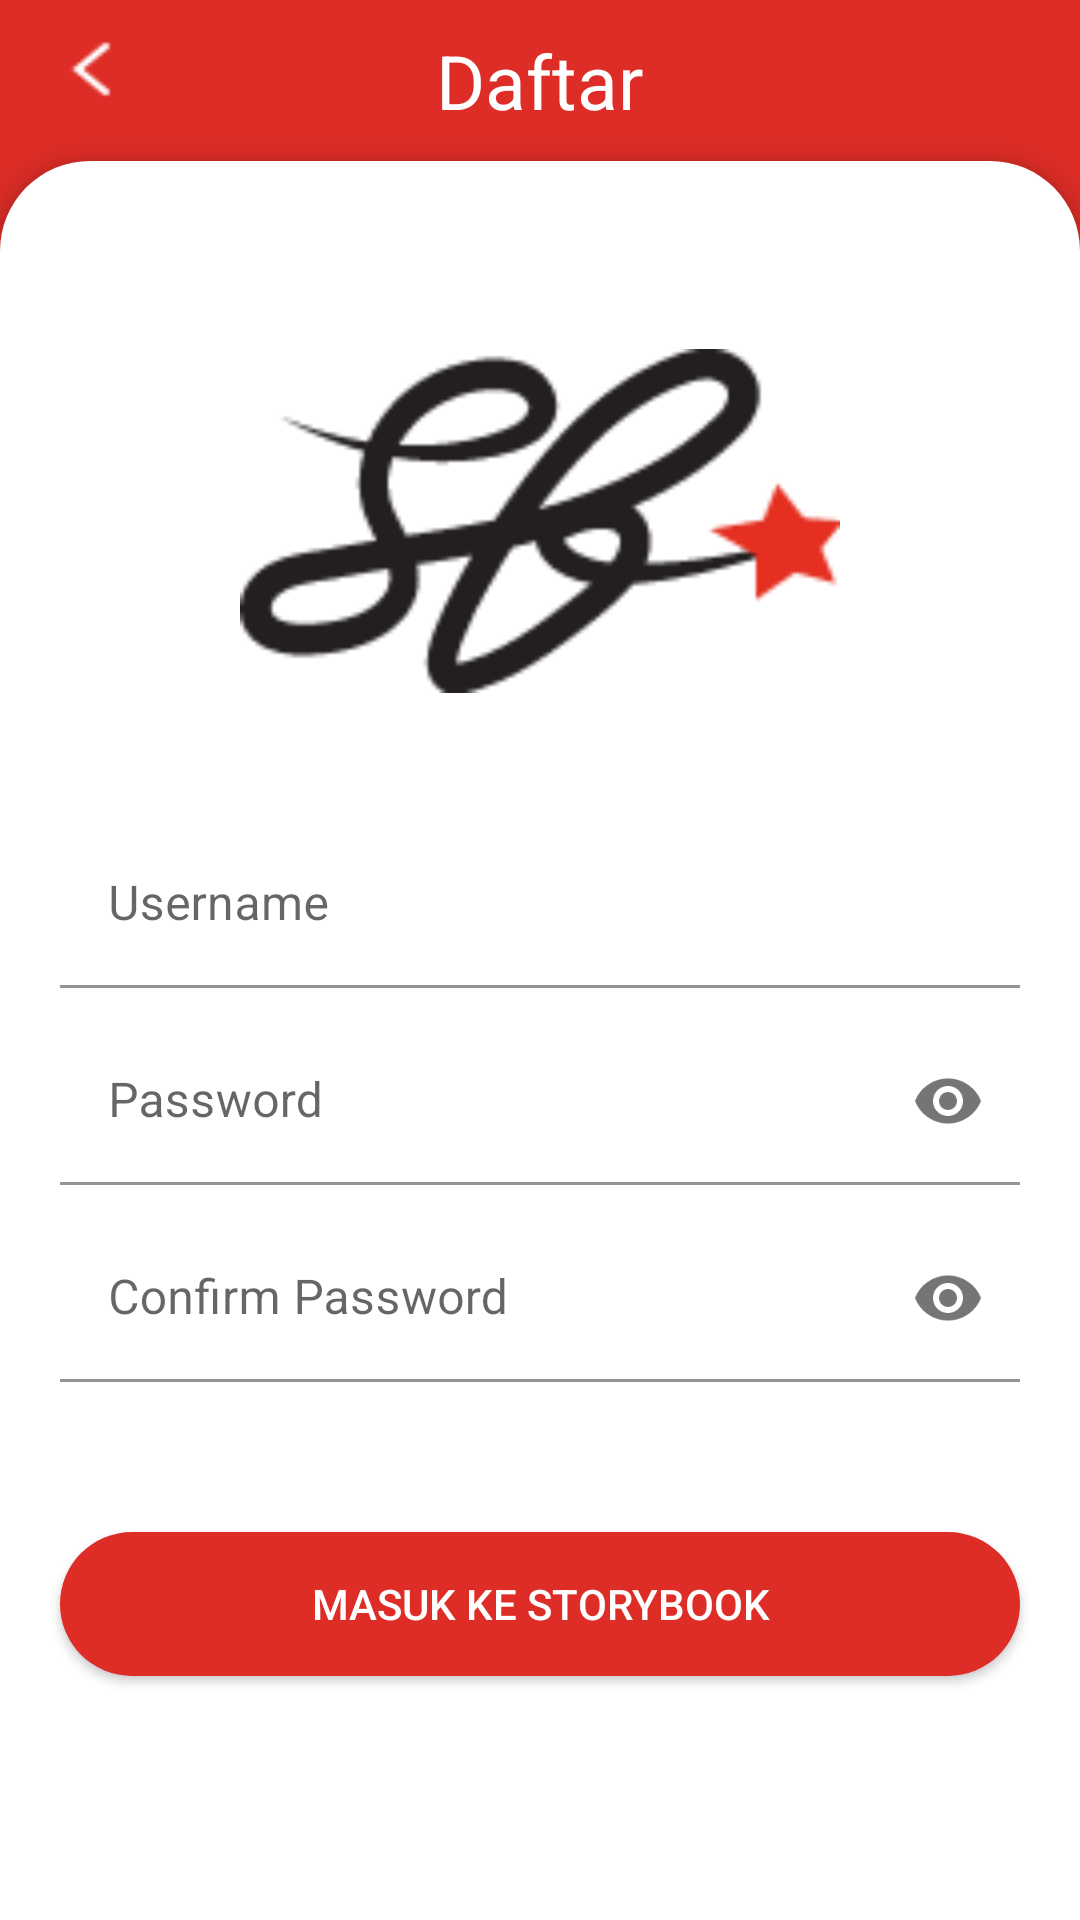

Locate icon controls on the screen. Image size 1080w x 1920h, boxes as bbox=(x1, y1, x2, y2).
back: bbox=(72, 42, 111, 96)
